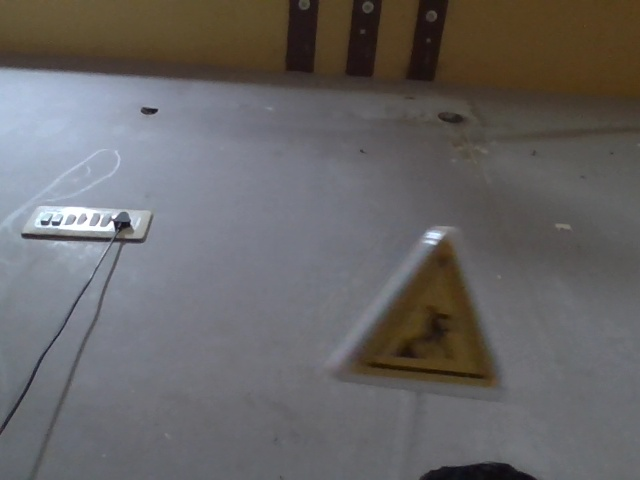workinprogress: (306, 243, 517, 417)
